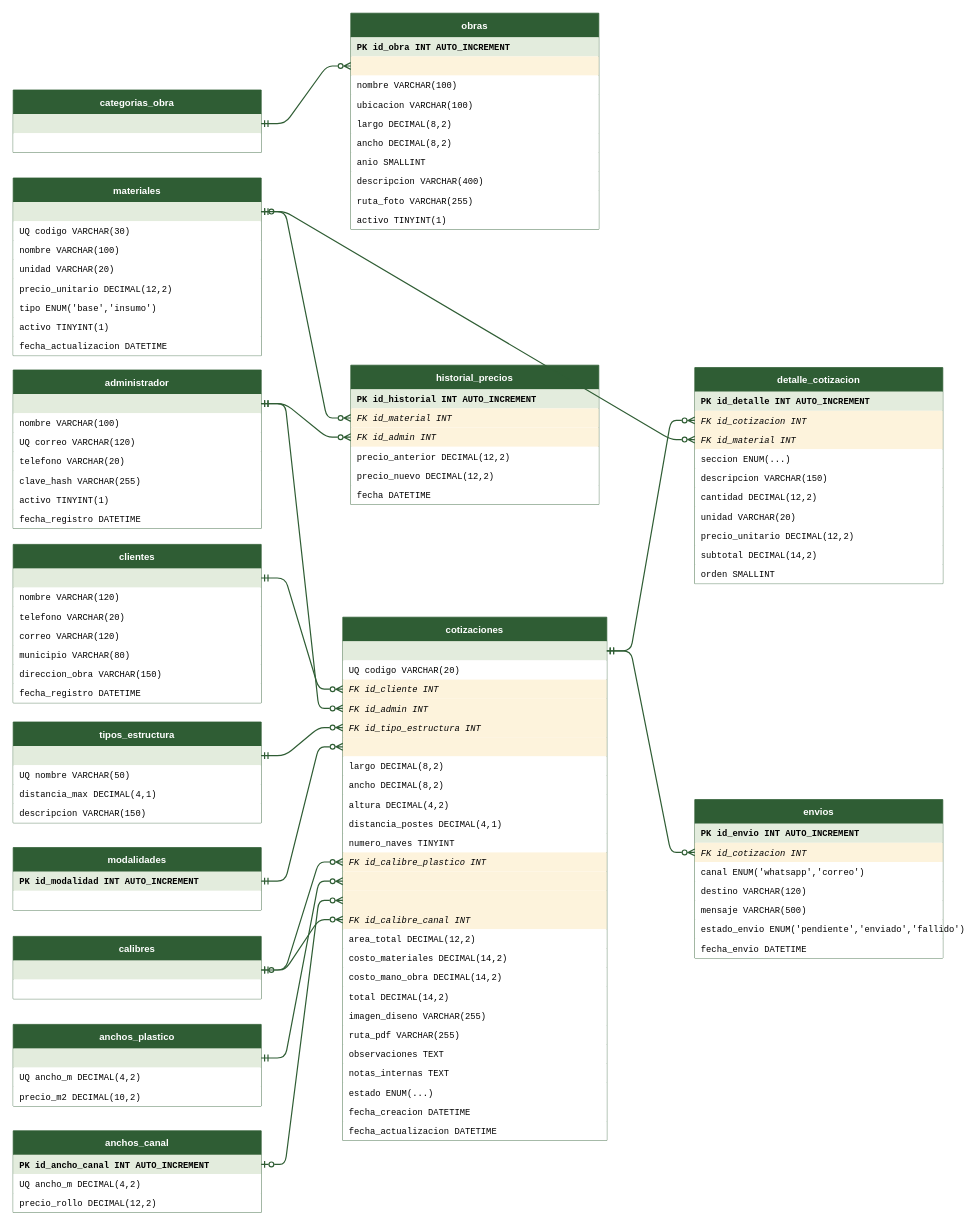
The diagram is 978 pixels wide and 1226 high, and some of its shapes have lost their labels. The shapes that lost their labels are listed below. From the top down, each one's centre as x and y in pixels, then its label:
the point at 474,65: FK id_categoria INT
the point at 137,123: PK id_categoria INT AUTO_INCREMENT
the point at 137,142: UQ nombre VARCHAR(60)
the point at 137,211: PK id_material INT AUTO_INCREMENT
the point at 137,403: PK id_admin INT AUTO_INCREMENT
the point at 137,577: PK id_cliente INT AUTO_INCREMENT
the point at 474,650: PK id_cotizacion INT AUTO_INCREMENT
the point at 137,755: PK id_tipo_estructura INT AUTO_INCREMENT
the point at 474,746: FK id_modalidad INT
the point at 137,900: UQ nombre VARCHAR(30)
the point at 474,880: FK id_ancho_plastico INT
the point at 474,900: FK id_ancho_canal INT
the point at 137,969: PK id_calibre INT AUTO_INCREMENT
the point at 137,988: UQ valor TINYINT
the point at 137,1057: PK id_ancho_plastico INT AUTO_INCREMENT
